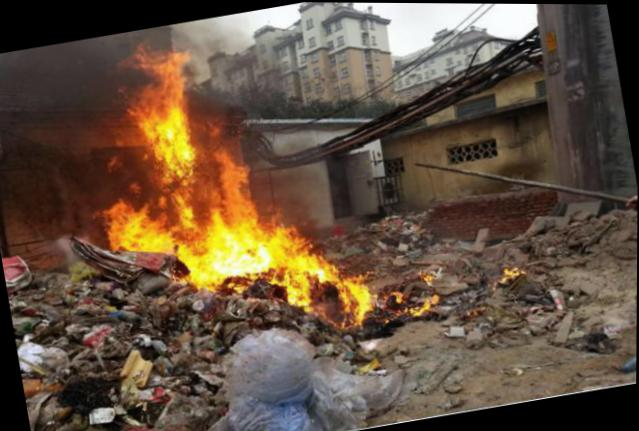fire: (184, 225, 290, 287), (136, 90, 198, 186), (103, 196, 181, 258), (215, 149, 260, 237), (277, 237, 318, 308), (142, 43, 190, 98), (339, 274, 373, 323), (168, 181, 200, 231), (199, 196, 230, 243), (312, 257, 340, 284), (412, 303, 432, 315), (503, 264, 520, 278), (393, 286, 405, 300)
